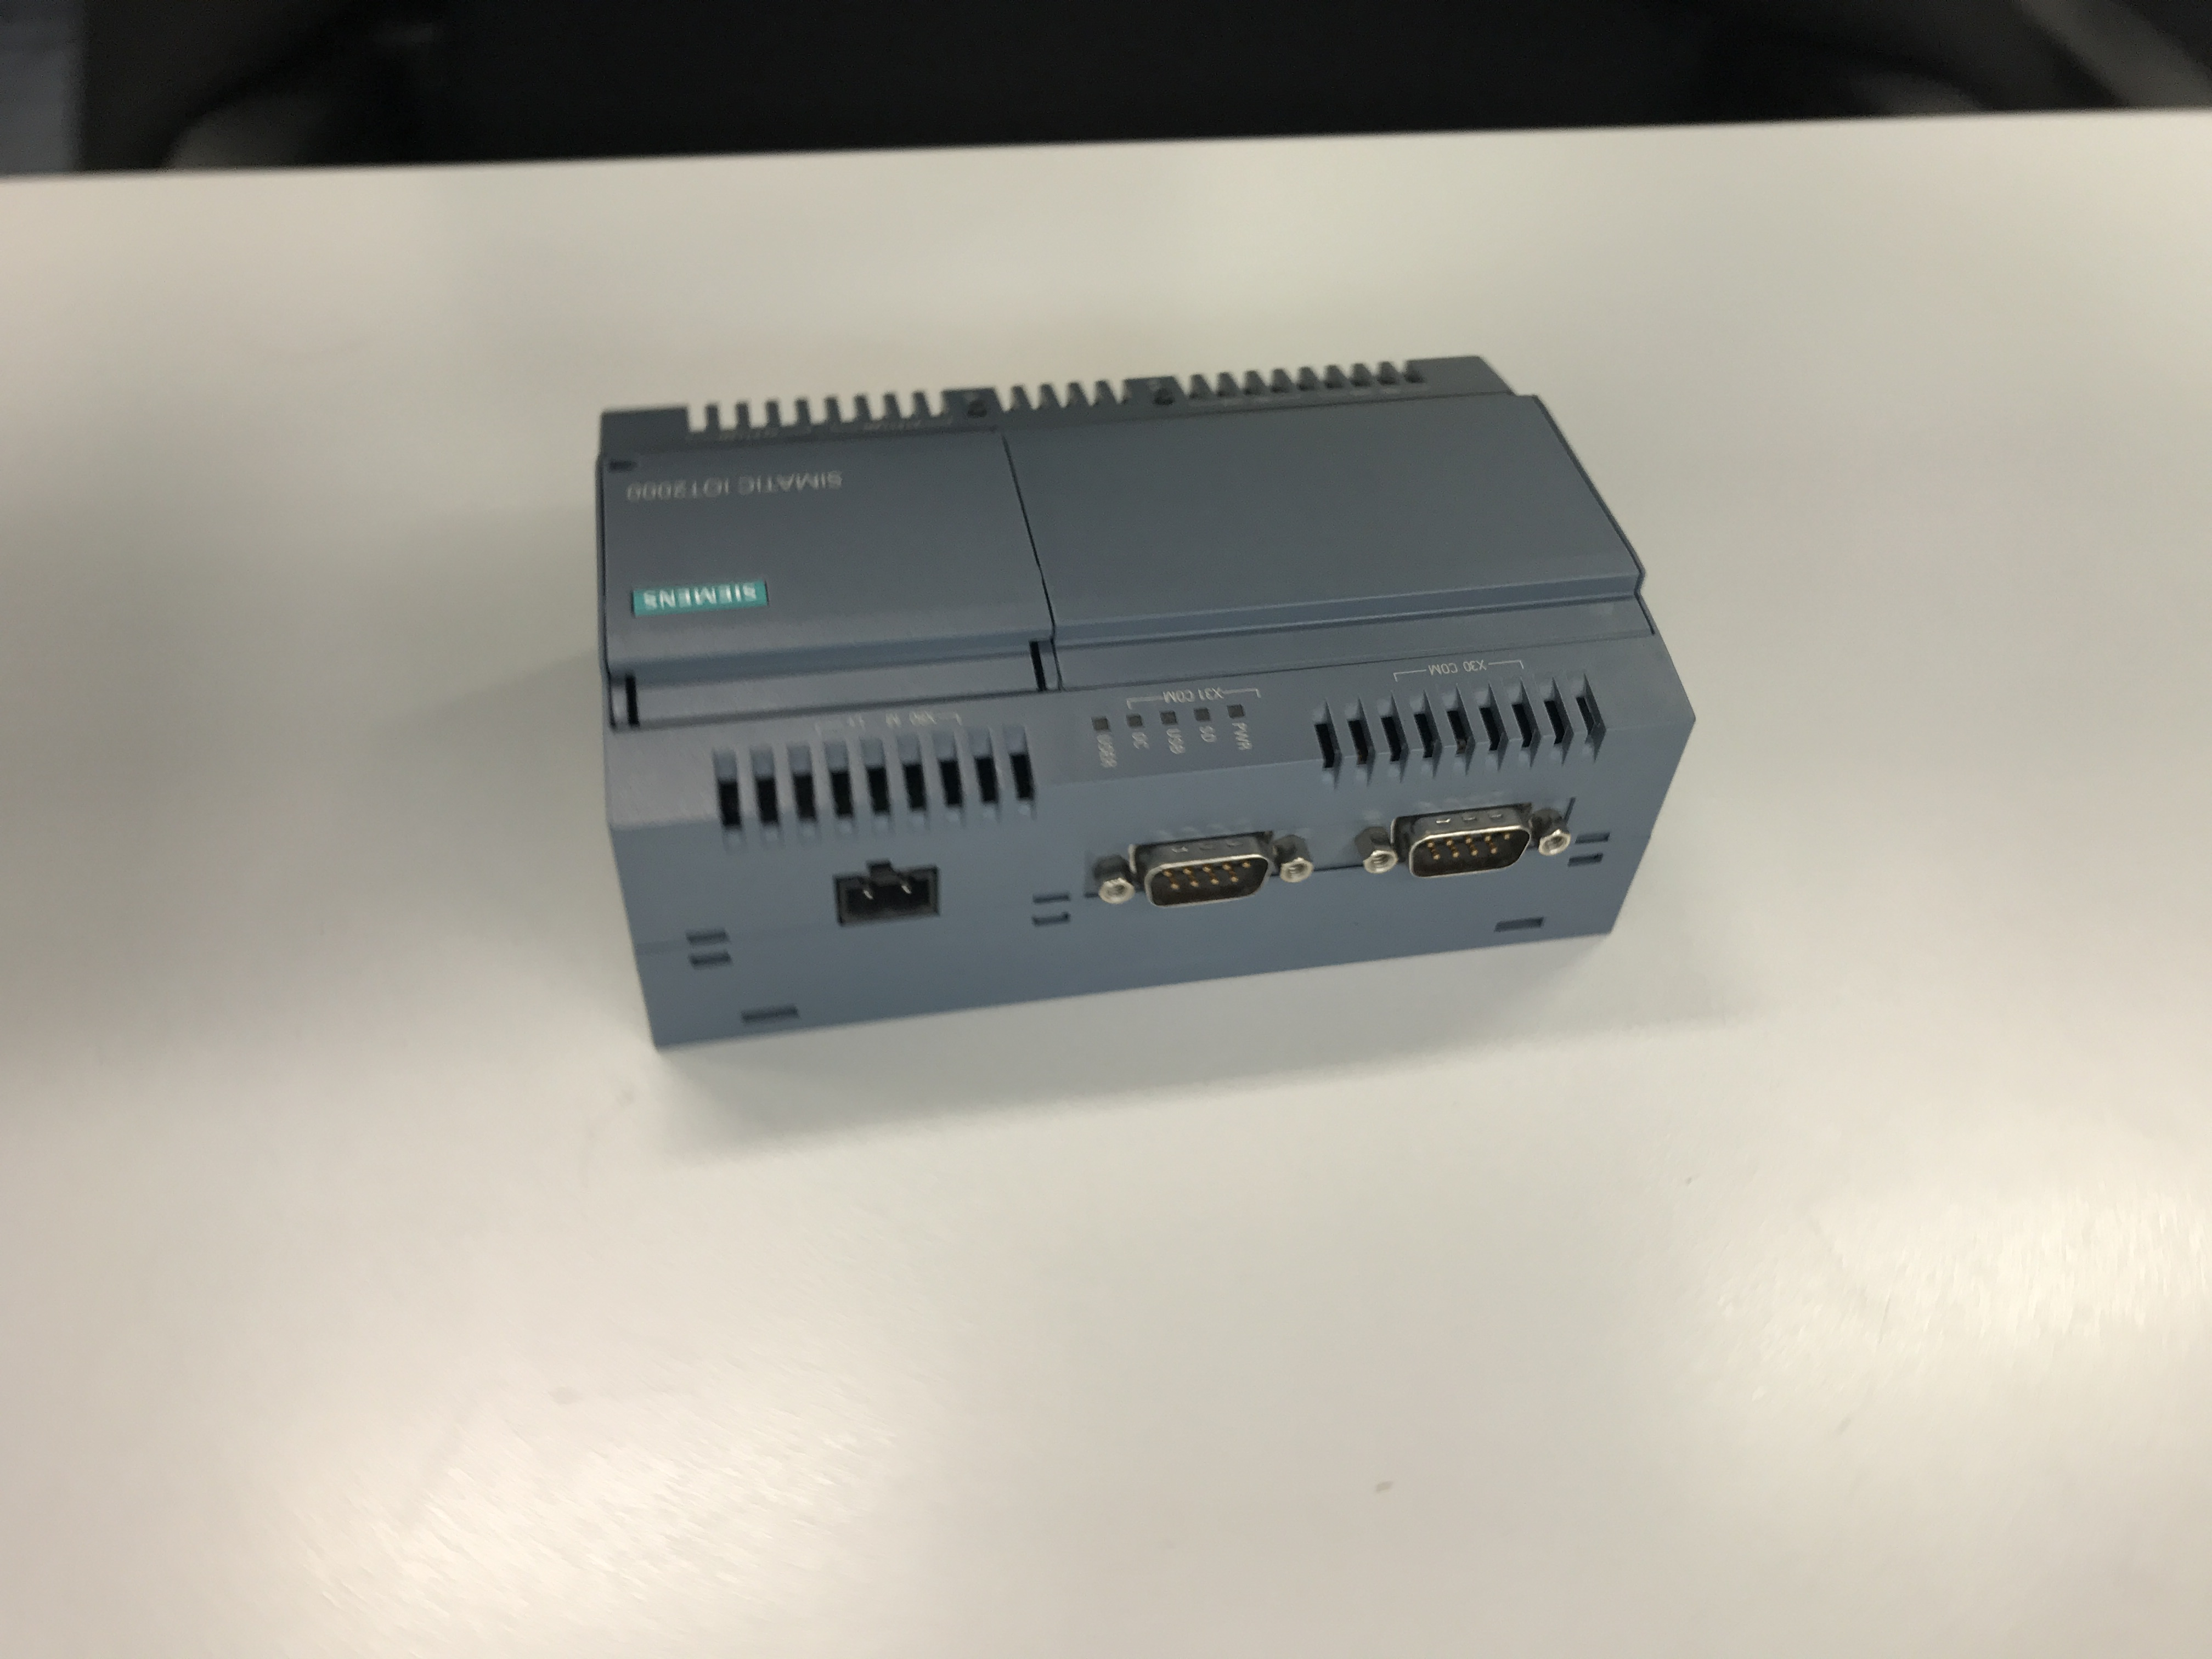device: (592, 356, 1698, 1053)
